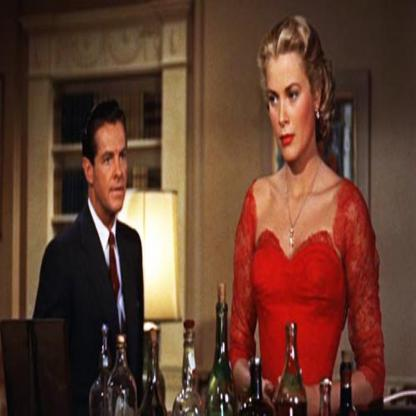face: (269, 51, 315, 161), (94, 119, 130, 213)
